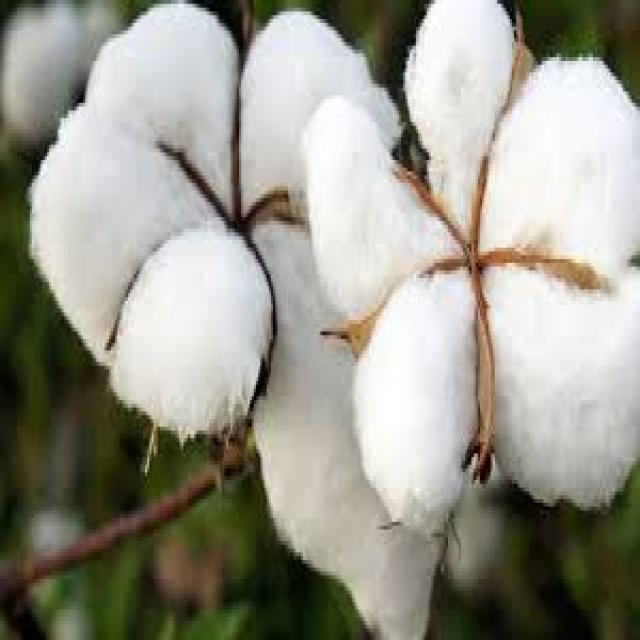Matured Cotton Boll: (282, 0, 640, 525), (24, 0, 373, 424)
